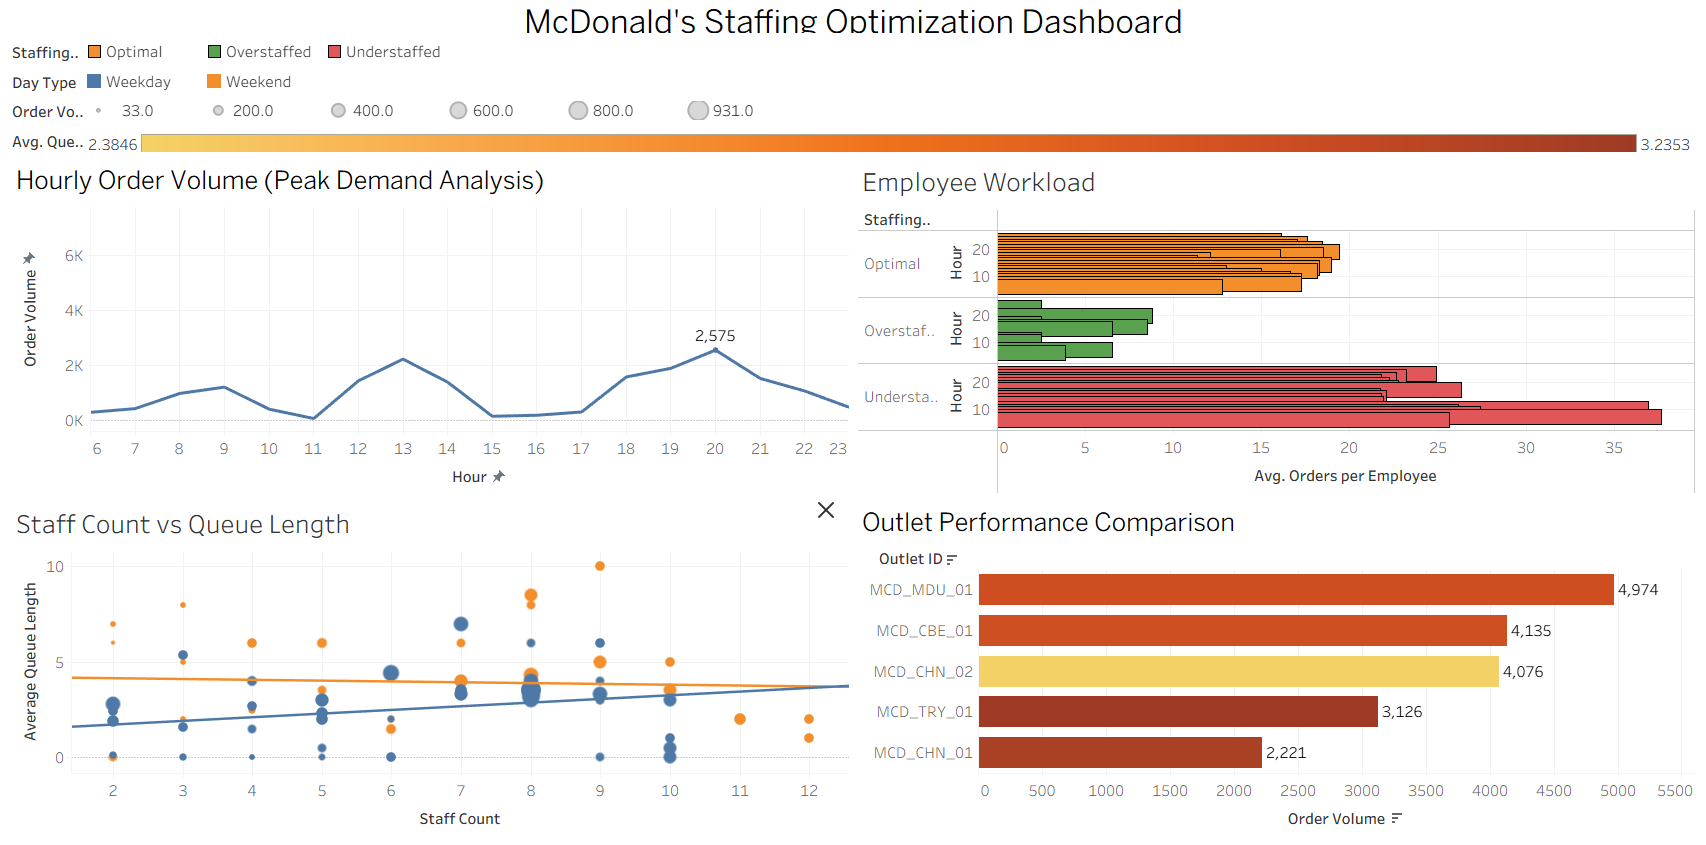

The page's visual inventory and layout, read from the dashboard file:
{"tool":"tableau","page":{"name":"Dashboard 1","canvas":[1000,1000],"units":"permille","ordinal":0},"visuals":[{"type":"text","box":[4.7,9.4,990.6,37.6]},{"type":"legend","title":"Employee Workload","param":"[federated.0qtb8vx18rxu5v13jdcgn1yr2kvj].[none:Staffing_Status:nk]","box":[4.7,47,990.6,35]},{"type":"legend","title":"Staff Count vs Queue Length","param":"[federated.0qtb8vx18rxu5v13jdcgn1yr2kvj].[none:Day_Type:nk]","box":[4.7,82,990.6,35]},{"type":"legend","title":"Staff Count vs Queue Length","param":"[federated.0qtb8vx18rxu5v13jdcgn1yr2kvj].[sum:Order_Volume:qk]","box":[4.7,116.9,990.6,35]},{"type":"legend","title":"Outlet Performance by Total Orders","param":"[federated.0qtb8vx18rxu5v13jdcgn1yr2kvj].[avg:Queue_Length:qk]","box":[4.7,151.9,990.6,35]},{"type":"worksheet","title":"Peak Demand Hours","mark":"Line","rows":["Order_Volume"],"cols":["Hour"],"box":[4.7,186.8,495.3,401.9]},{"type":"worksheet","title":"Employee Workload","mark":"Bar","rows":["Staffing_Status","Hour"],"cols":["Orders_per_Employee"],"box":[500,186.8,495.3,401.9]},{"type":"worksheet","title":"Staff Count vs Queue Length","mark":"Circle","rows":["Queue_Length"],"cols":["Staff_Count"],"box":[4.7,588.7,495.3,401.9]},{"type":"dashboard-object","box":[476.9,588.7,14.1,28.2]},{"type":"worksheet","title":"Outlet Performance by Total Orders","mark":"Bar","rows":["Outlet_ID"],"cols":["Order_Volume"],"box":[500,588.7,495.3,401.9]}]}

Visuals, with their boxes on the dashboard's canvas, which has no fixed pixel size, in thousandths of its width and height (x1, y1, x2, y2). These are canvas units, not pixel positions in the 1706x845 screenshot, which may show the page scaled, cropped or inside an application window:
text: (left=5, top=9, right=995, bottom=47)
"Employee Workload" legend: (left=5, top=47, right=995, bottom=82)
"Staff Count vs Queue Length" legend: (left=5, top=82, right=995, bottom=117)
"Staff Count vs Queue Length" legend: (left=5, top=117, right=995, bottom=152)
"Outlet Performance by Total Orders" legend: (left=5, top=152, right=995, bottom=187)
"Peak Demand Hours" worksheet (Line marks): (left=5, top=187, right=500, bottom=589)
"Employee Workload" worksheet (Bar marks): (left=500, top=187, right=995, bottom=589)
"Staff Count vs Queue Length" worksheet (Circle marks): (left=5, top=589, right=500, bottom=991)
dashboard-object: (left=477, top=589, right=491, bottom=617)
"Outlet Performance by Total Orders" worksheet (Bar marks): (left=500, top=589, right=995, bottom=991)
